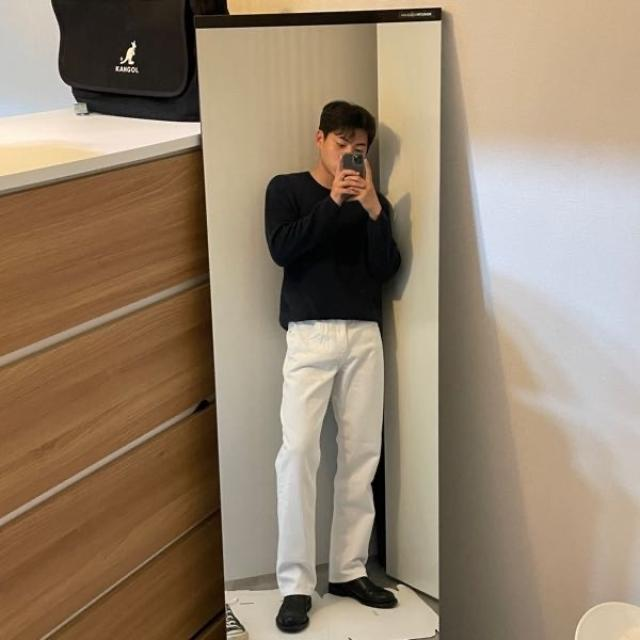cottonpants: (274, 317, 385, 597)
longsleeve: (262, 166, 398, 328)
